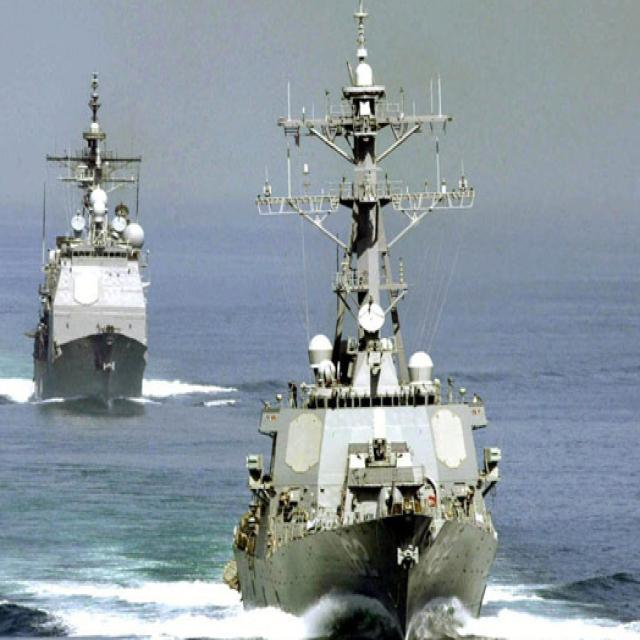navalvessels: (233, 0, 506, 629), (21, 74, 158, 412)
